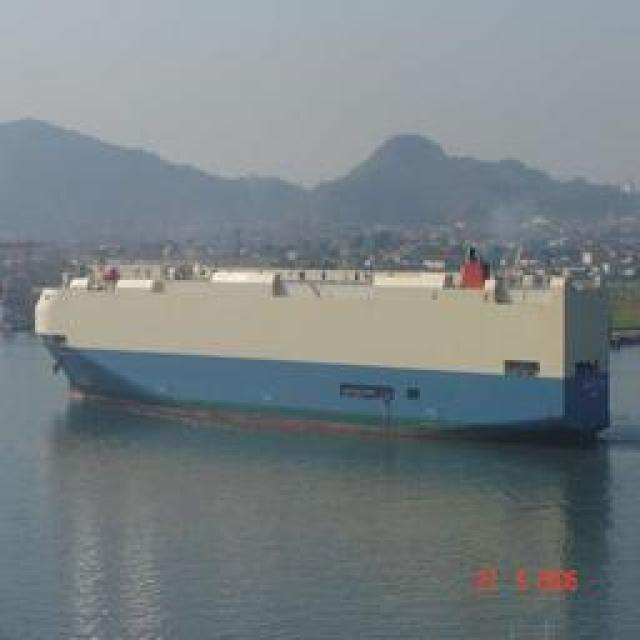ship2: (34, 248, 619, 450)
